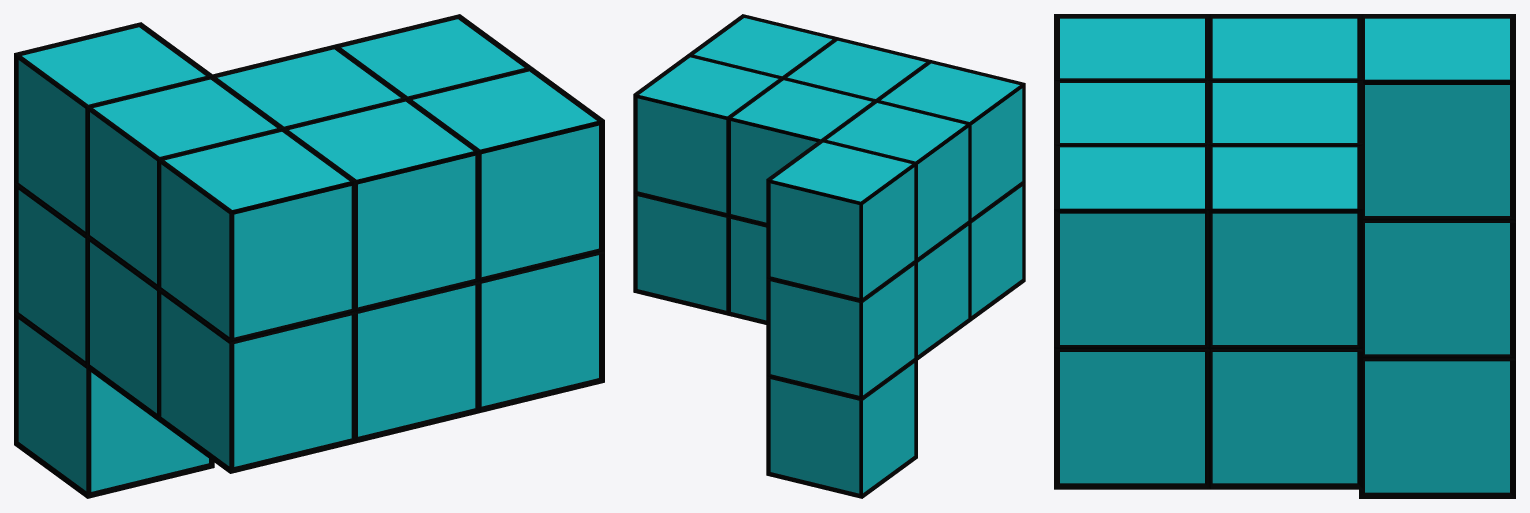
3 views of the same model, side by side, from view 1: azimuth 30°, elevation 25°; view 2: azimuth 150°, elevation 25°; view 3: azimuth 270°, elevation 25° (orthographic). The views are drawn at different scales.
Visible parts, largest first — view 1: d:Mesh; view 2: d:Mesh; view 3: d:Mesh.
Boxes of the visible parts, x1=… form: d:Mesh: x1=14, y1=14, x2=604, y2=498; d:Mesh: x1=633, y1=14, x2=1025, y2=498; d:Mesh: x1=1054, y1=14, x2=1515, y2=498.
Size of the model in its own units: 6.06 by 6.06 by 6.06.
